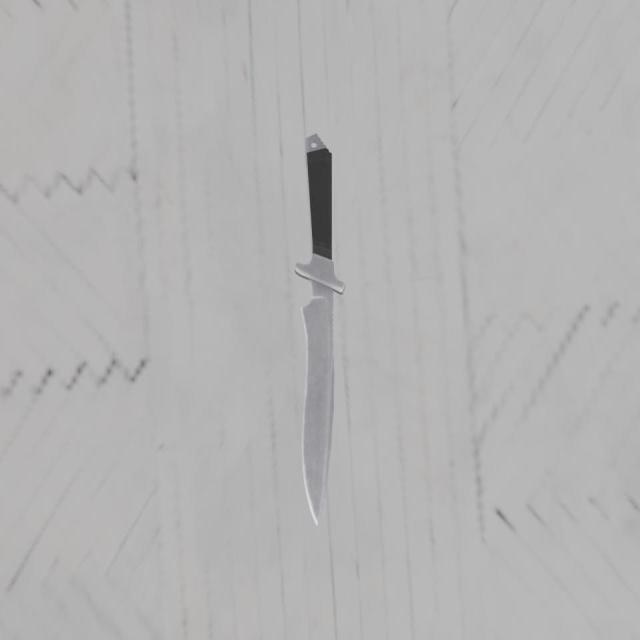knife: (305, 124, 332, 262)
